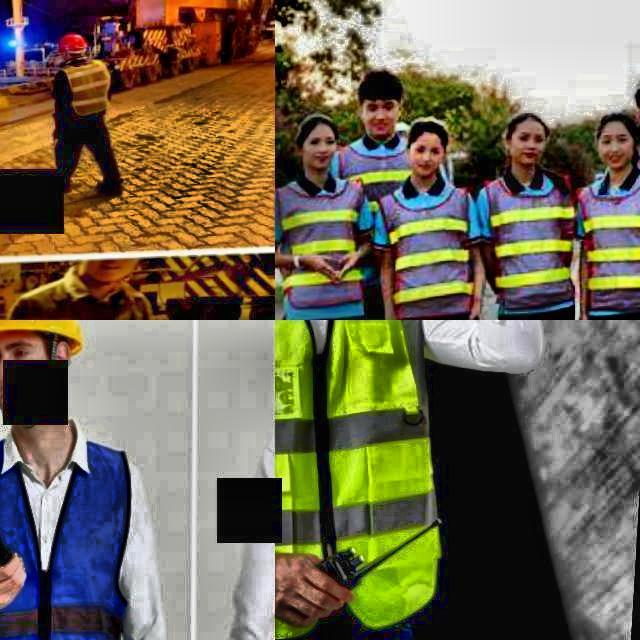safety_jacket: (275, 320, 452, 631), (0, 437, 150, 640), (275, 179, 379, 312), (388, 193, 494, 306), (489, 184, 588, 294), (572, 177, 640, 311), (60, 58, 120, 119)
